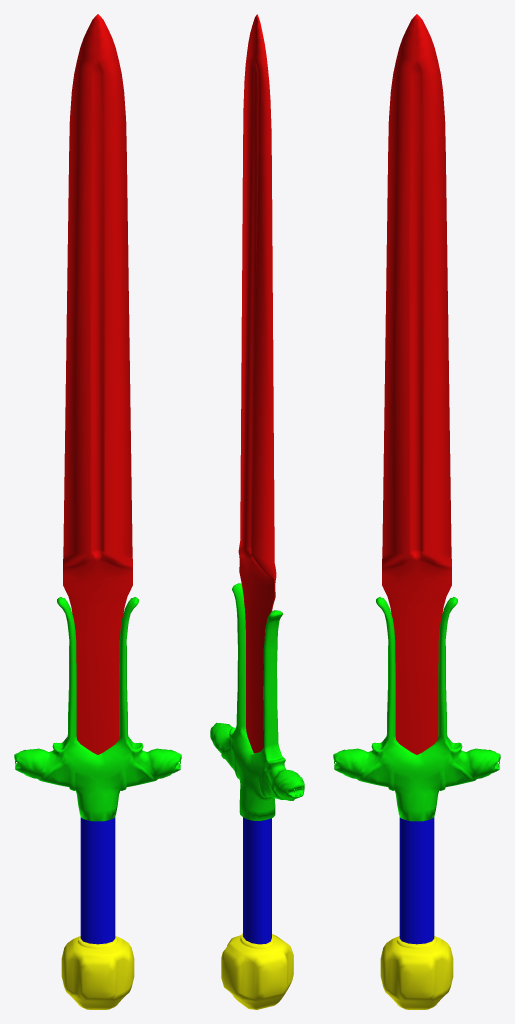
The model's file is Sword001.fbx.
3 views of the same model, side by side, from view 1: azimuth 90°, elevation 25°; view 2: azimuth 210°, elevation 25°; view 3: azimuth 270°, elevation 25° (orthographic).
Parts seen in each view (by area): view 1: Sword01; view 2: Sword01; view 3: Sword01.
Part boxes in pixels (box(x1,y1,x2,y2)): Sword01: box(14, 14, 181, 1009); Sword01: box(210, 14, 304, 1009); Sword01: box(333, 14, 500, 1009).
Size of the model in its own units: 8.74 by 134 by 20.49.
